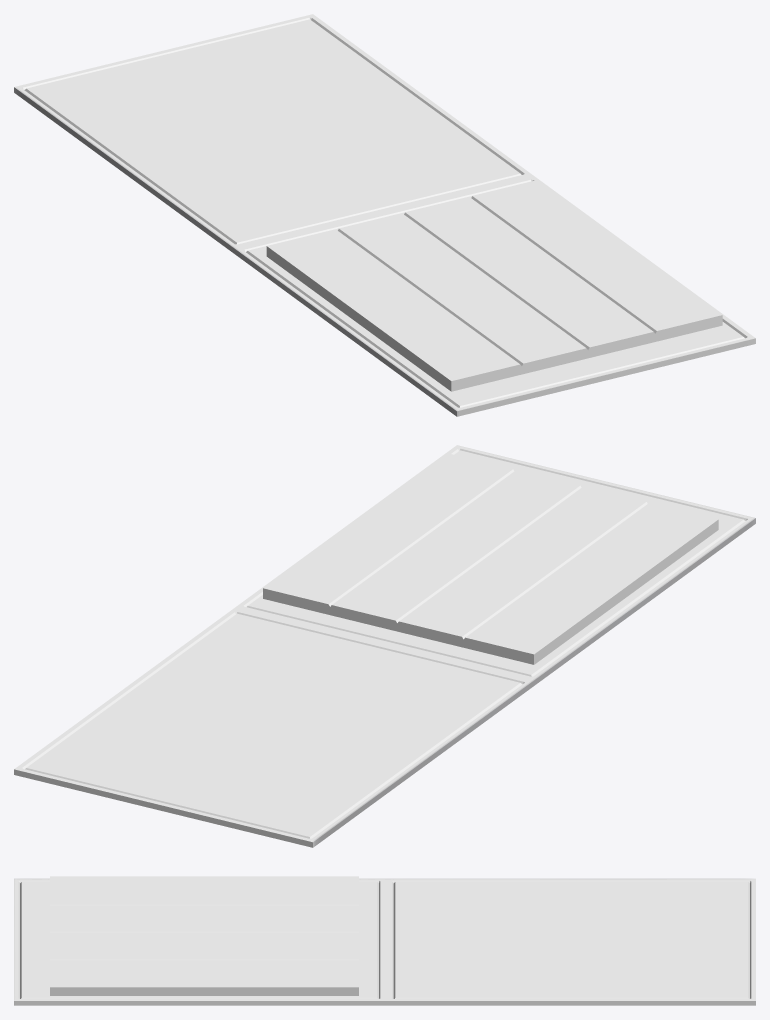
The model's file is SM_PH试纸_001.fbx.
3 views of the same model, one above another, from view 1: azimuth 30°, elevation 25°; view 2: azimuth 150°, elevation 25°; view 3: azimuth 270°, elevation 25° (orthographic). The views are drawn at different scales.
Visible parts, largest first — view 1: SM_PH试纸_001; view 2: SM_PH试纸_001; view 3: SM_PH试纸_001.
Boxes of the visible parts, left/top/right/bottom form: SM_PH试纸_001: left=14, top=14, right=755, bottom=416; SM_PH试纸_001: left=14, top=445, right=755, bottom=847; SM_PH试纸_001: left=14, top=876, right=755, bottom=1005.
Size of the model in its own units: 0.0891 by 0.00459 by 0.2286.
